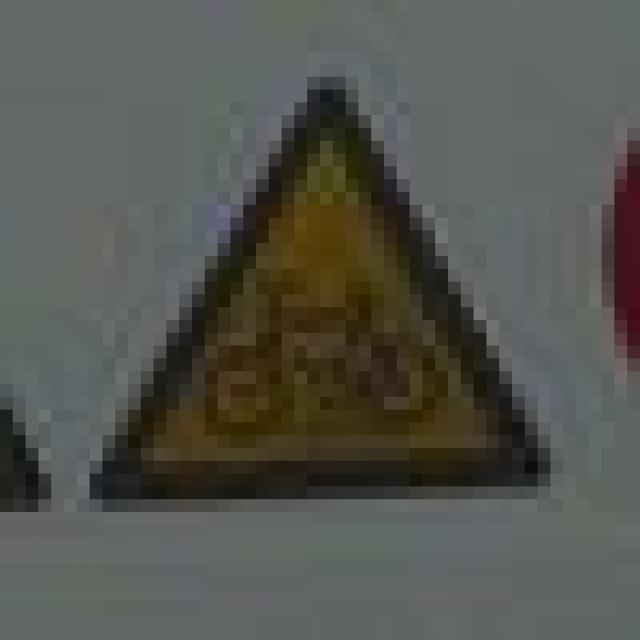CYCLE_CROSSING: (76, 64, 538, 486)
